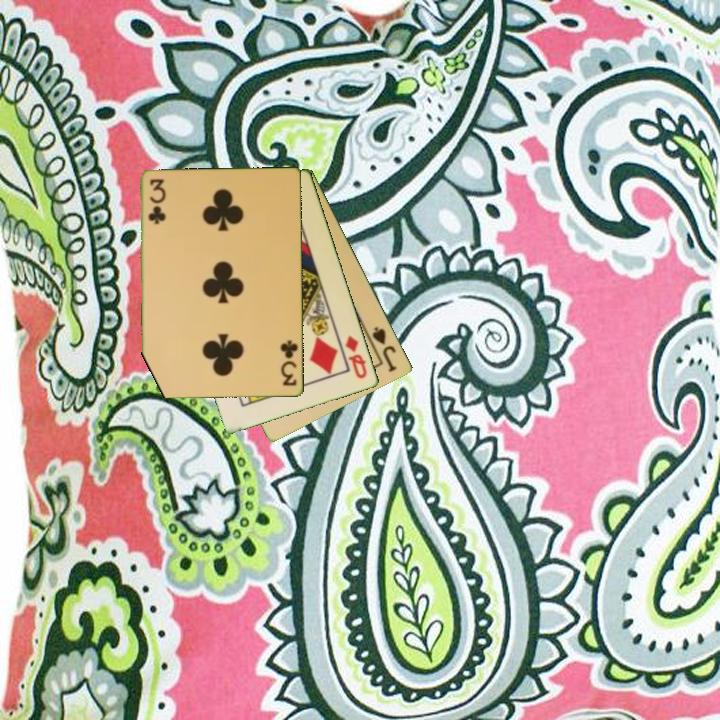3c: (277, 337, 301, 389), (145, 176, 166, 227)
Js: (369, 323, 400, 375)
Qd: (342, 332, 370, 382)
